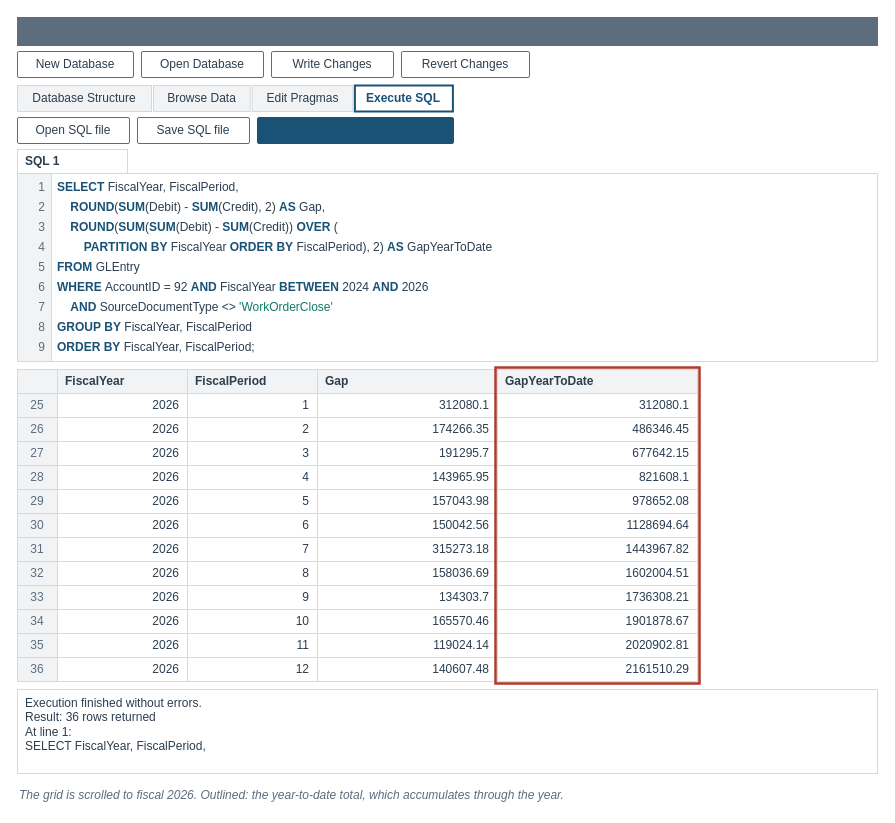
The diagram is 895 pixels wide and 823 high, and some of its shapes have lost their labels. Each missing label, with the centre of its shape:
DB Browser for SQLite - CharlesRiver_Work.sqlite: the point at 447,31
▶ Execute all/selected SQL: the point at 355,130
